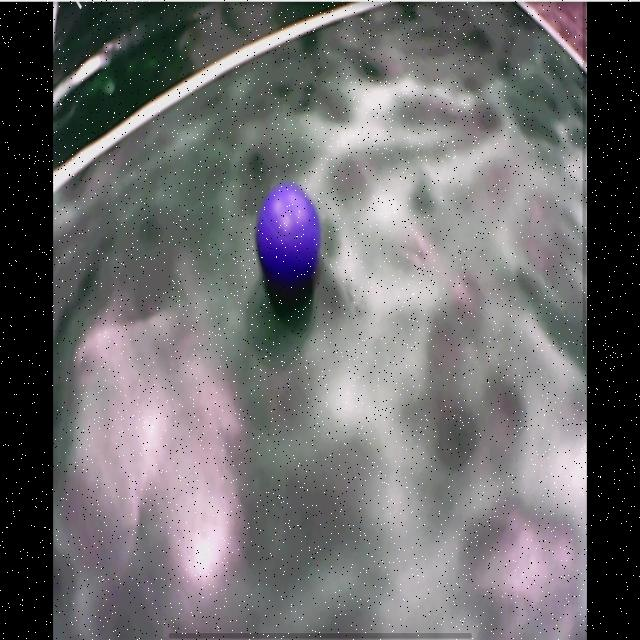ball: (257, 187, 322, 285)
